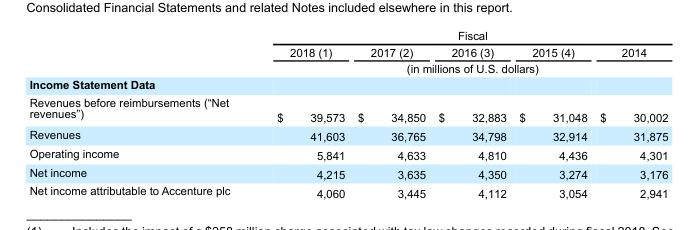table: (28, 28, 667, 198)
table column: (28, 28, 252, 198), (252, 28, 350, 198), (350, 28, 431, 198), (431, 28, 512, 198), (512, 28, 593, 198), (593, 28, 667, 198)
table column header: (28, 28, 667, 76)
table projected row header: (28, 76, 667, 93)
table row: (28, 93, 667, 125), (28, 125, 667, 144), (28, 144, 667, 163), (28, 163, 667, 182), (28, 59, 667, 76), (28, 76, 667, 93), (28, 43, 667, 59), (28, 182, 667, 198), (28, 28, 667, 43)
table spanning cell: (252, 59, 667, 76), (252, 28, 667, 43)
